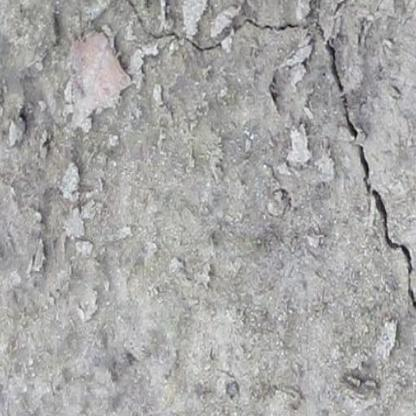Cracks: (312, 10, 416, 329), (101, 0, 184, 44), (231, 15, 303, 37), (188, 38, 226, 56)
